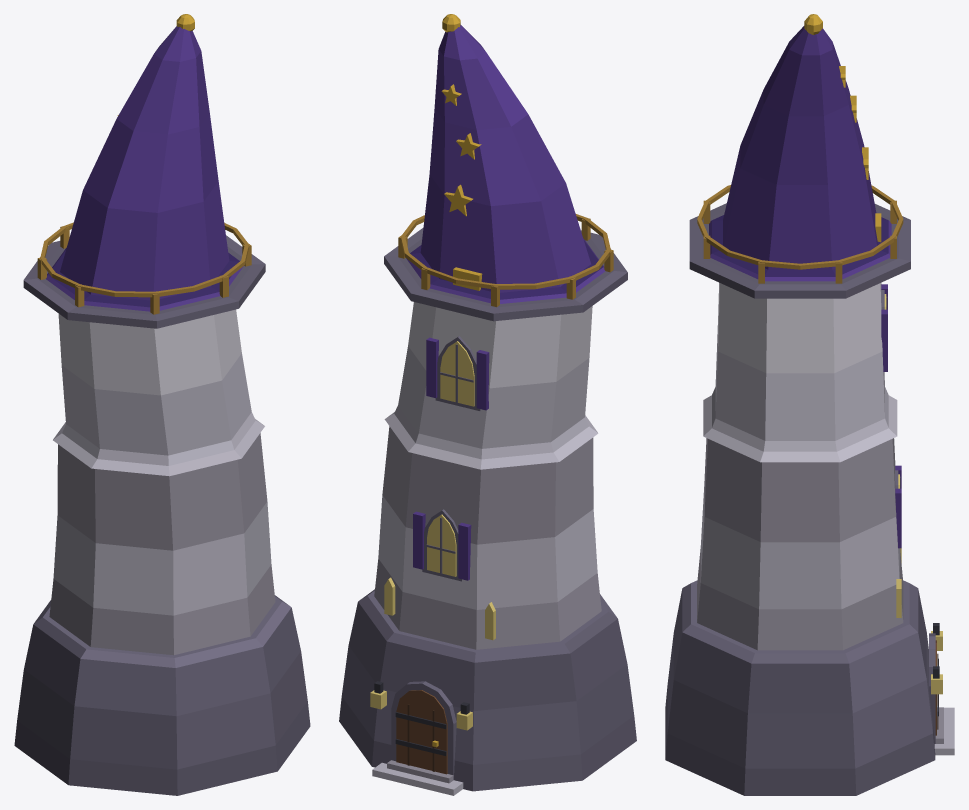
Rendered from Decor_WizardTower_Tower.fbx.
3 renders of one model, left to right at view 1: azimuth 30°, elevation 25°; view 2: azimuth 150°, elevation 25°; view 3: azimuth 270°, elevation 25°, orthographic. The views are drawn at different scales.
Parts seen in each view (by area): view 1: Tower_Body; view 2: Tower_Body; view 3: Tower_Body.
Boxes of the visible parts, bbox=[...] form: Tower_Body: bbox=[14, 14, 310, 795]; Tower_Body: bbox=[339, 14, 636, 795]; Tower_Body: bbox=[665, 14, 954, 795].
Size of the model in its own units: 20 by 56 by 20.
